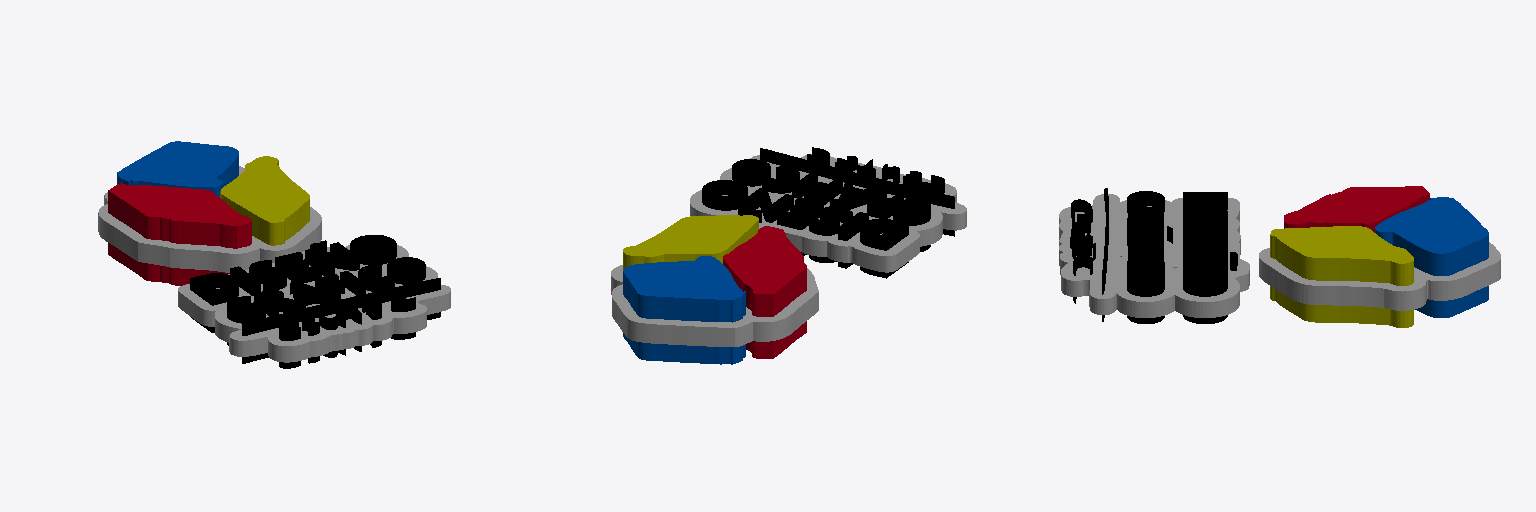
File: Camiseta.obj
3 renders of one model, left to right at view 1: azimuth 30°, elevation 25°; view 2: azimuth 150°, elevation 25°; view 3: azimuth 270°, elevation 25°, orthographic.
Visible parts, largest first — view 1: Curve.002_path3788, Curve.001_path4405, Curve_path4403, Curve.004_path3792, Curve.018_path3802, Curve.003_path3790, Curve.005_path3458, Curve.009_path3466, Curve.010_path3468, Curve.008_path3464, Curve.017_path3455, Curve.011_path3443 (+4 smaller); view 2: Curve.003_path3790, Curve.001_path4405, Curve_path4403, Curve.002_path3788, Curve.004_path3792, Curve.018_path3802, Curve.005_path3458, Curve.010_path3468, Curve.009_path3466, Curve.007_path3462, Curve.008_path3464, Curve.011_path3443 (+6 smaller); view 3: Curve.001_path4405, Curve.004_path3792, Curve.003_path3790, Curve_path4403, Curve.002_path3788, Curve.018_path3802, Curve.010_path3468, Curve.017_path3455, Curve.009_path3466, Curve.005_path3458, Curve.008_path3464, Curve.013_path3447 (+4 smaller).
Part boxes in pixels (bbox=[...]): Curve.002_path3788: bbox=[108, 183, 251, 285]; Curve.001_path4405: bbox=[178, 245, 450, 362]; Curve_path4403: bbox=[98, 166, 321, 272]; Curve.004_path3792: bbox=[220, 156, 309, 245]; Curve.018_path3802: bbox=[242, 278, 440, 368]; Curve.003_path3790: bbox=[117, 141, 238, 197]; Curve.005_path3458: bbox=[190, 273, 238, 332]; Curve.009_path3466: bbox=[305, 240, 359, 275]; Curve.010_path3468: bbox=[350, 235, 396, 264]; Curve.008_path3464: bbox=[275, 252, 321, 282]; Curve.017_path3455: bbox=[387, 257, 425, 284]; Curve.011_path3443: bbox=[227, 296, 265, 345]; Curve.003_path3790: bbox=[623, 256, 745, 364]; Curve.001_path4405: bbox=[690, 154, 966, 272]; Curve_path4403: bbox=[611, 265, 818, 346]; Curve.002_path3788: bbox=[723, 226, 806, 358]; Curve.004_path3792: bbox=[623, 215, 758, 269]; Curve.018_path3802: bbox=[760, 147, 954, 236]; Curve.005_path3458: bbox=[860, 218, 908, 278]; Curve.010_path3468: bbox=[702, 180, 747, 210]; Curve.009_path3466: bbox=[738, 188, 793, 222]; Curve.007_path3462: bbox=[809, 206, 852, 262]; Curve.008_path3464: bbox=[777, 197, 823, 255]; Curve.011_path3443: bbox=[893, 198, 930, 251]; Curve.001_path4405: bbox=[1059, 194, 1249, 317]; Curve.004_path3792: bbox=[1270, 226, 1413, 327]; Curve.003_path3790: bbox=[1375, 197, 1488, 317]; Curve_path4403: bbox=[1259, 242, 1500, 310]; Curve.002_path3788: bbox=[1284, 186, 1429, 232]; Curve.018_path3802: bbox=[1070, 188, 1108, 321]; Curve.010_path3468: bbox=[1183, 266, 1227, 323]; Curve.017_path3455: bbox=[1127, 269, 1164, 323]; Curve.009_path3466: bbox=[1183, 247, 1237, 273]; Curve.005_path3458: bbox=[1183, 192, 1227, 210]; Curve.008_path3464: bbox=[1183, 233, 1227, 246]; Curve.013_path3447: bbox=[1127, 220, 1172, 245].
Bounding box in the file's own units: 53.16 × 14.8 × 91.8.